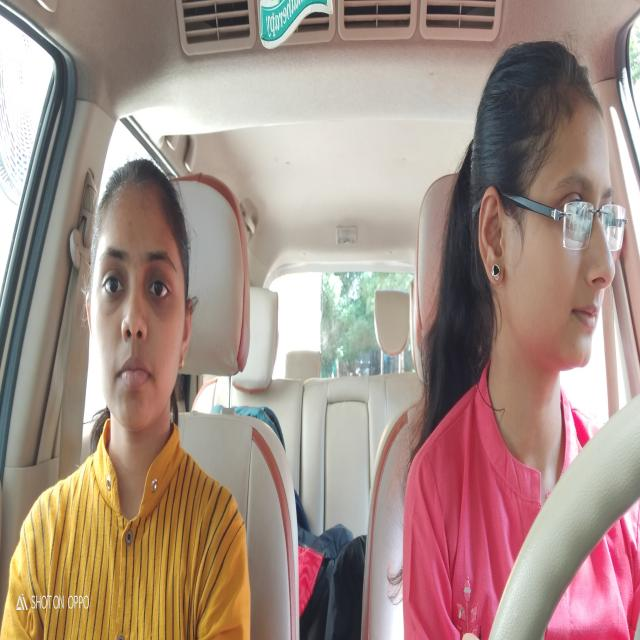LeftRight: (463, 25, 619, 375)
person: (83, 160, 194, 438)
